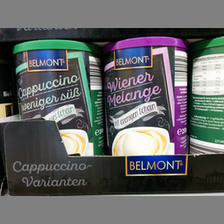coffee: (101, 36, 190, 156), (12, 39, 103, 156)
